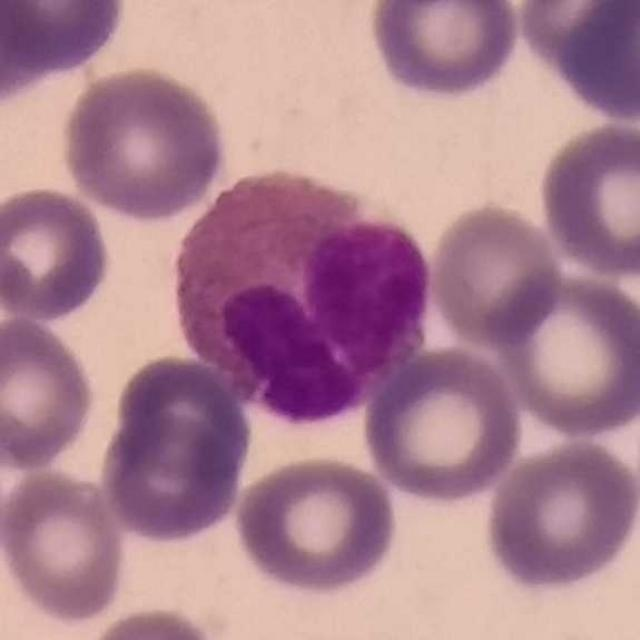Eosinophil: (166, 162, 436, 419)
RBC: (96, 349, 255, 551), (57, 62, 229, 224), (359, 343, 526, 504), (481, 435, 640, 597), (491, 266, 639, 440), (230, 451, 402, 599), (423, 197, 565, 352), (0, 465, 130, 627), (534, 118, 640, 280), (364, 0, 524, 104), (0, 181, 115, 324), (0, 314, 99, 473), (521, 0, 640, 119), (0, 0, 131, 79), (76, 602, 229, 640), (0, 1, 53, 108)
